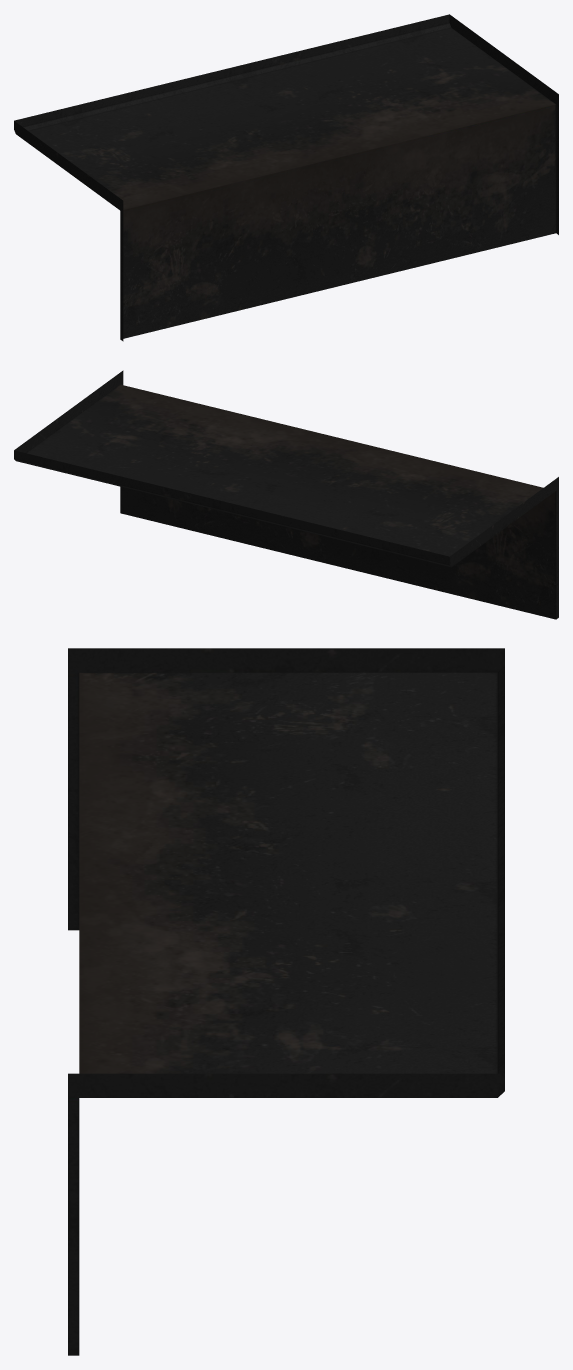
File: StageBackdrop.FBX
The picture shows the model from 3 angles, top to bottom: view 1: azimuth 30°, elevation 25°; view 2: azimuth 150°, elevation 25°; view 3: azimuth 270°, elevation 25°; orthographic projection. The views are drawn at different scales.
Visible parts, largest first — view 1: StageBackdrop; view 2: StageBackdrop; view 3: StageBackdrop.
Boxes of the visible parts, box(x1,y1,x2,y2) form: StageBackdrop: box(14, 14, 558, 341); StageBackdrop: box(14, 370, 558, 619); StageBackdrop: box(68, 648, 504, 1355).
Size of the model in its own units: 816 by 252 by 355.
